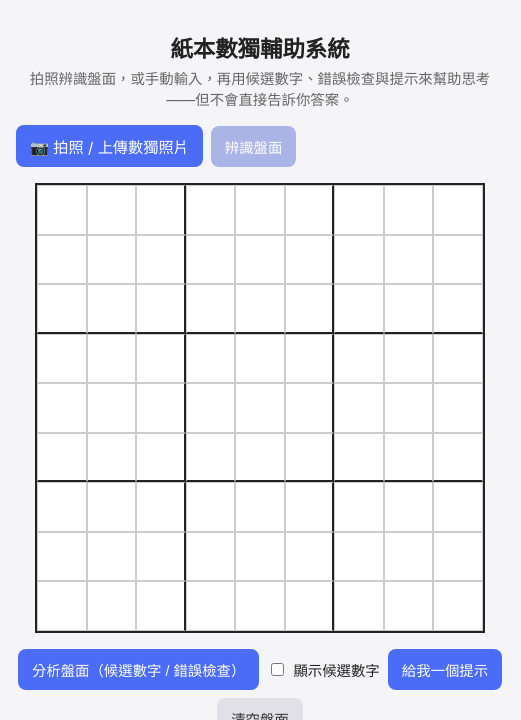
Test: App › shows the API error message when analyze fails
Click the button "分析盤面（候選數字 / 錯誤檢查）" at {"x": 139, "y": 670}, box [18, 649, 259, 690]
(page scrolled)
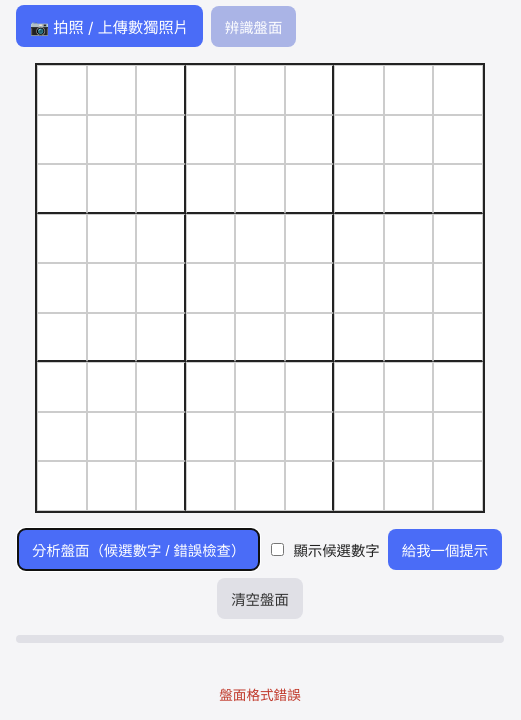
Expected: the text "盤面格式錯誤" has style "color: #c0392b", [219, 687, 301, 703]
